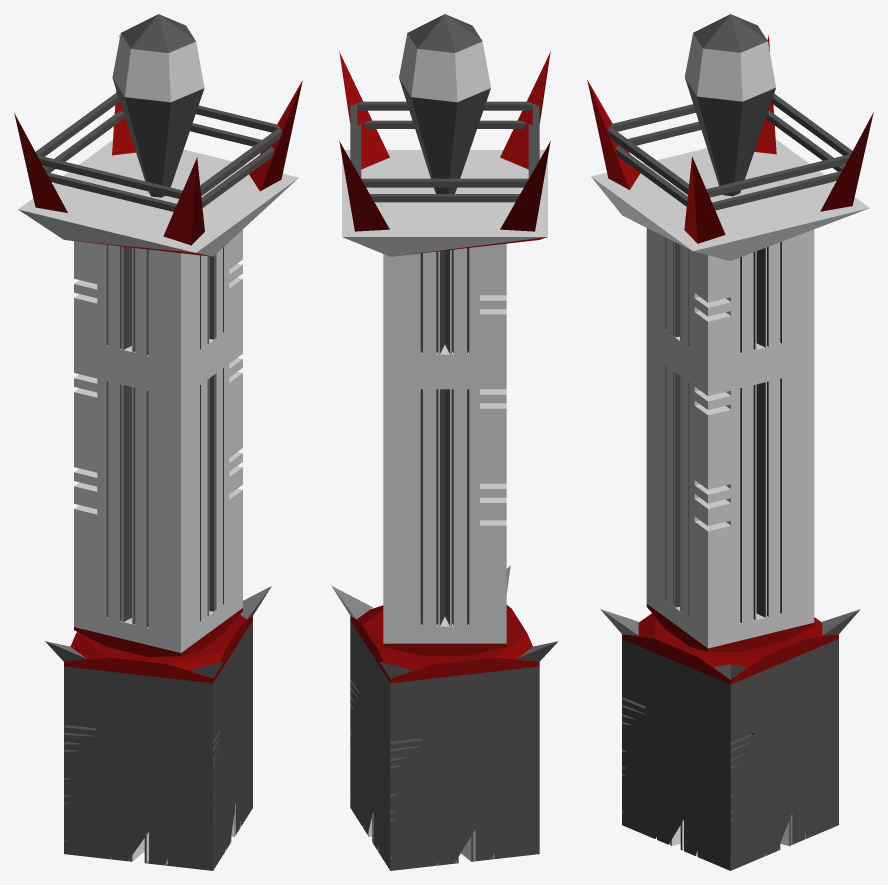
3 renders of one model, left to right at view 1: azimuth 30°, elevation 25°; view 2: azimuth 150°, elevation 25°; view 3: azimuth 270°, elevation 25°, orthographic.
Visible parts, largest first — view 1: Group1, Group2, Group3, Group15, Group14, Group13, Group8, Group11, Group9, Group10; view 2: Group1, Group2, Group3, Group15, Group14, Group13, Group9, Group10, Group8, Group11, Group5; view 3: Group1, Group2, Group3, Group15, Group14, Group13, Group11, Group8, Group10, Group9.
Part boxes in pixels (x1,y1,x2,y2): Group1: (74, 229, 242, 656); Group2: (64, 614, 252, 870); Group3: (18, 140, 298, 256); Group15: (112, 14, 204, 197); Group14: (35, 92, 281, 198); Group13: (43, 111, 274, 211); Group8: (163, 157, 204, 245); Group11: (249, 80, 302, 191); Group9: (14, 113, 67, 212); Group10: (112, 35, 135, 155); Group1: (383, 243, 506, 655); Group2: (350, 605, 539, 870); Group3: (342, 150, 547, 256); Group15: (399, 14, 490, 193); Group14: (350, 101, 539, 187); Group13: (357, 120, 532, 202); Group9: (500, 141, 550, 231); Group10: (339, 141, 389, 231); Group8: (500, 52, 550, 169); Group11: (339, 52, 389, 169); Group5: (331, 586, 372, 619); Group1: (646, 228, 814, 652); Group2: (622, 613, 838, 870); Group3: (591, 139, 869, 260); Group15: (685, 14, 775, 196); Group14: (607, 93, 852, 197); Group13: (615, 111, 844, 210); Group11: (684, 156, 725, 243); Group8: (587, 80, 640, 189); Group10: (820, 112, 873, 211); Group9: (754, 35, 776, 154).
Bounding box in the file's own units: 2.24 × 7.01 × 2.24.
